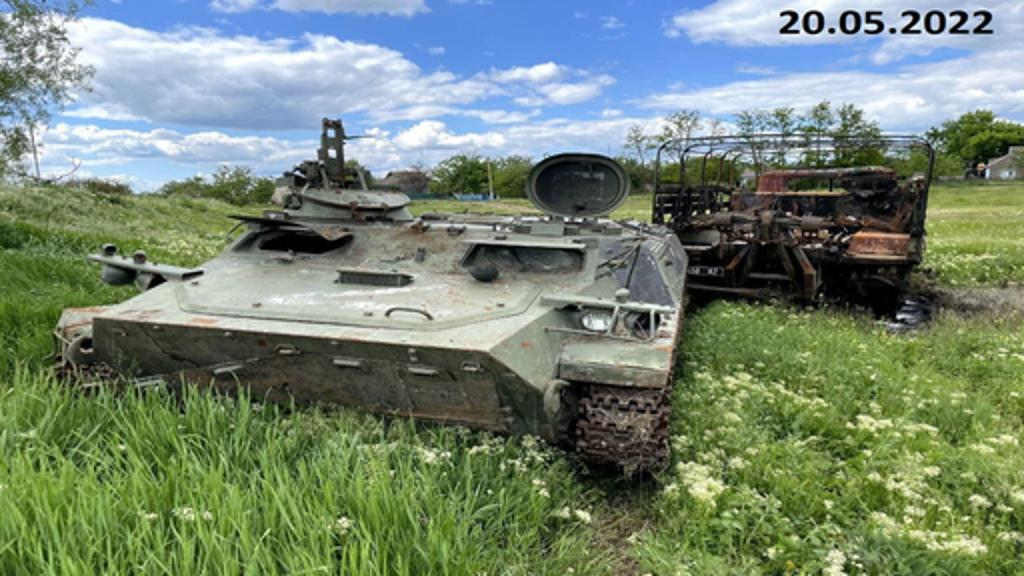APC-IFV: (62, 160, 698, 490)
